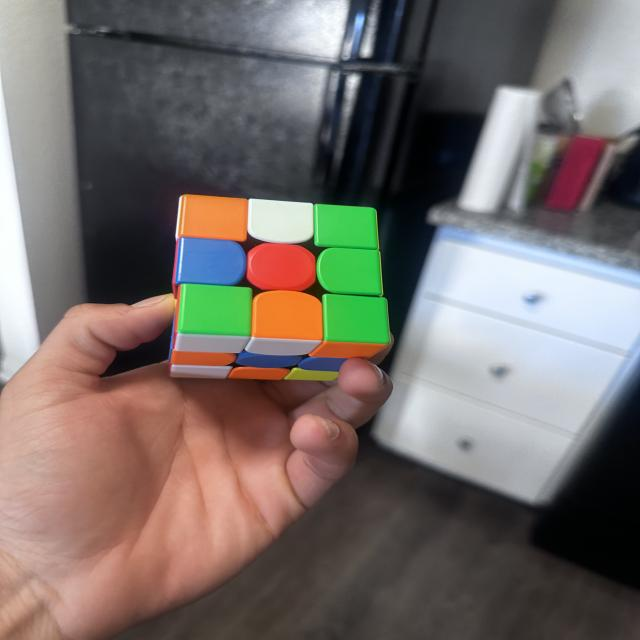sticker: (172, 283, 254, 353), (246, 289, 325, 356), (316, 292, 391, 358), (174, 237, 248, 290), (245, 242, 318, 294), (176, 194, 250, 244), (246, 197, 317, 246), (316, 247, 384, 298), (312, 202, 380, 252)
